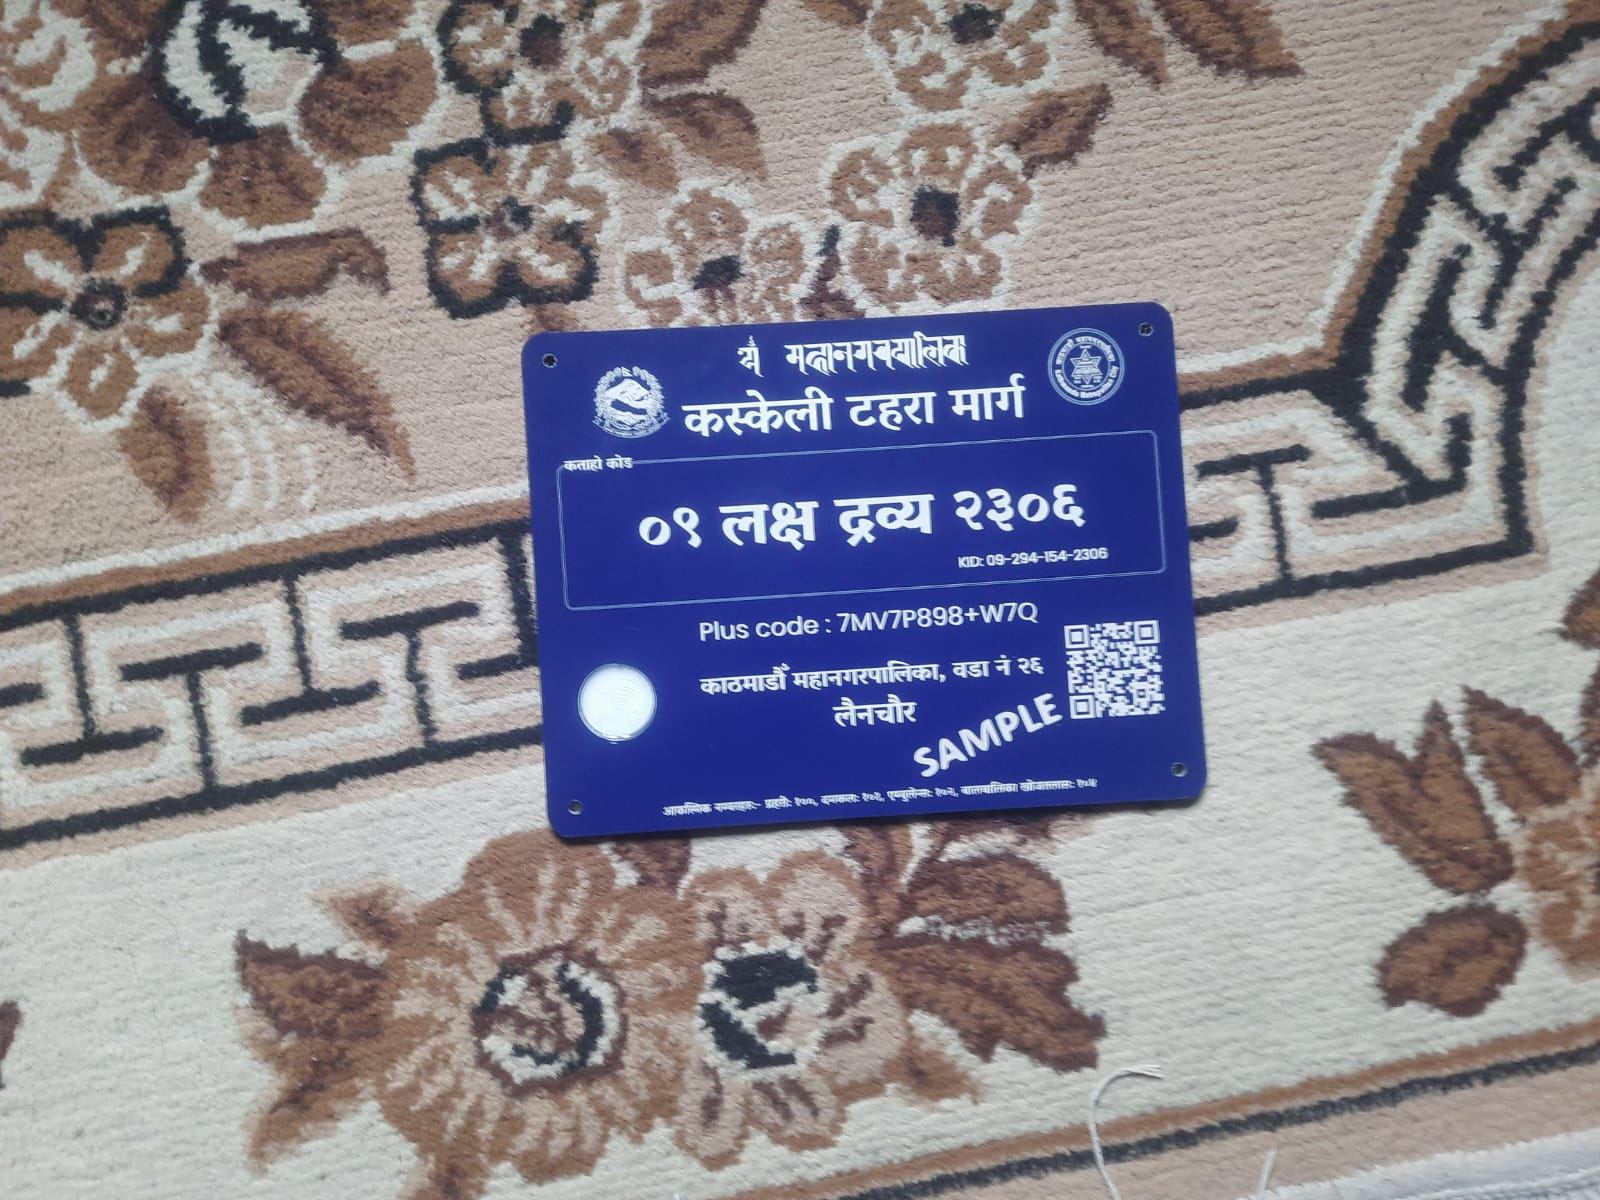Plate: (515, 300, 1221, 845)
